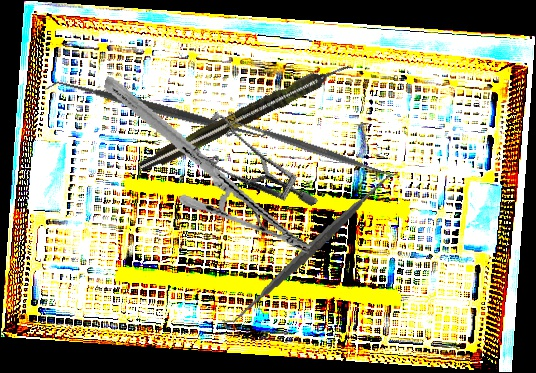Handpiece: (136, 55, 356, 177)
Needle Holder: (79, 76, 336, 256)
Spatula Surgical: (221, 155, 401, 342), (42, 67, 274, 152), (224, 110, 400, 188)
Speculum: (178, 89, 319, 243)
